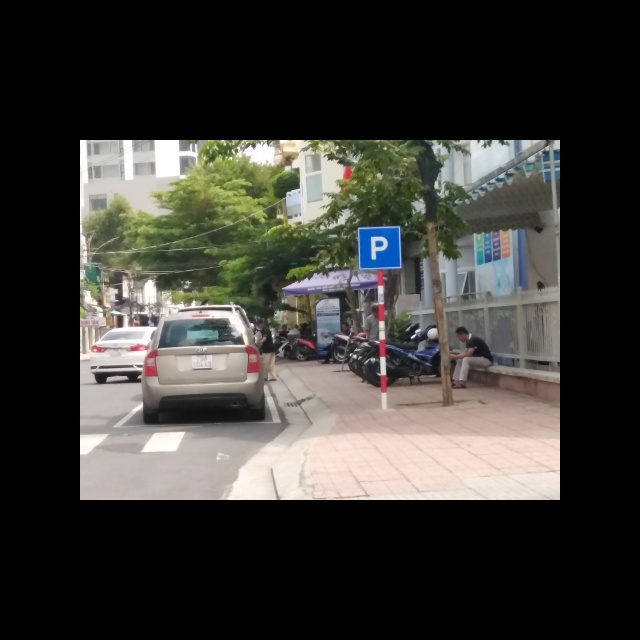Nơi đỗ xe: (357, 224, 404, 269)
